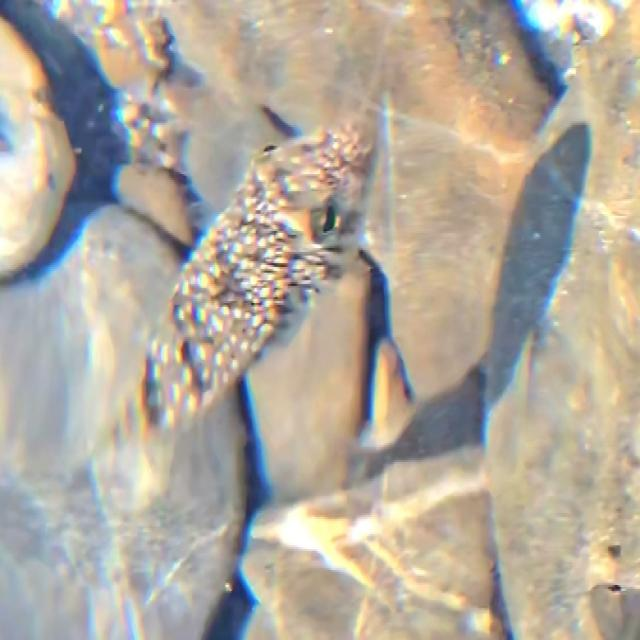Balik: (116, 124, 375, 441)
